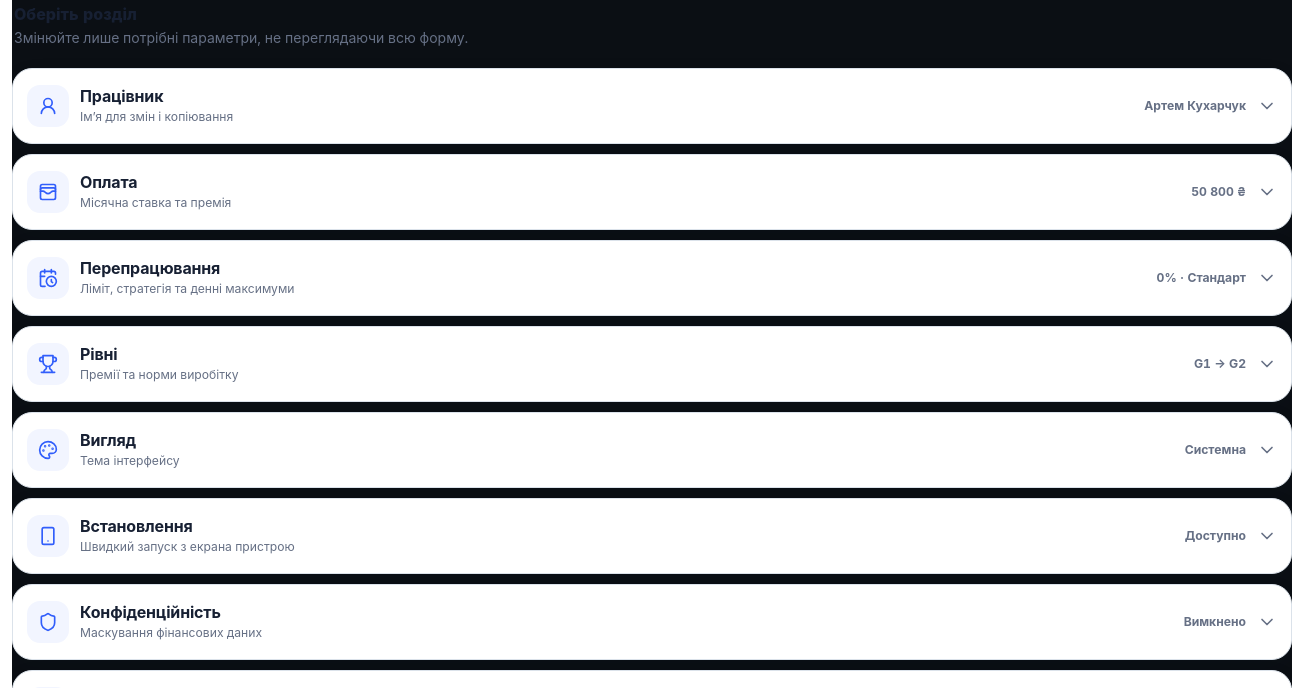
Test: SettingsPage › opens the native PWA installation prompt from settings
This screenshot has width=1292, height=688.
Click the heading "Встановлення Швидкий запуск з екрана пристрою Доступно" at point(48, 536), box [27,515,1277,557]
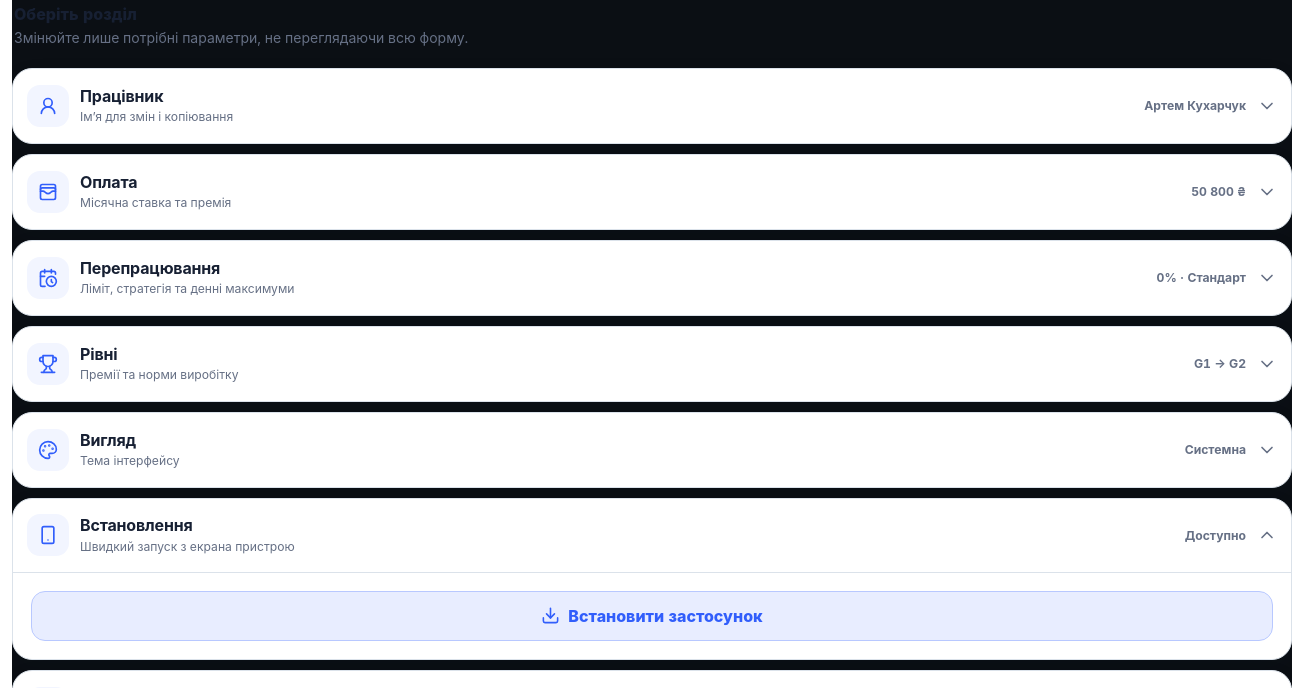
Click the button "Встановити застосунок" at point(652, 616), box [31,591,1273,641]
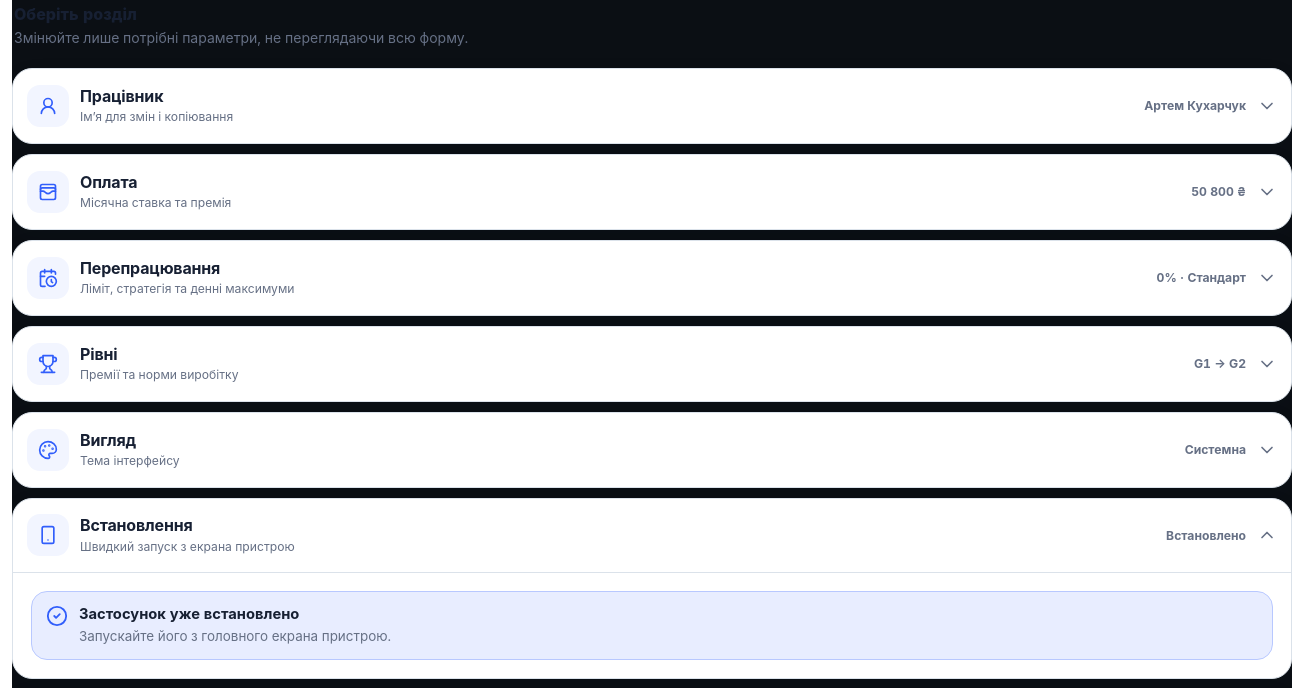
Now the text "Застосунок уже встановлено" is shown, box [79,605,299,623]
